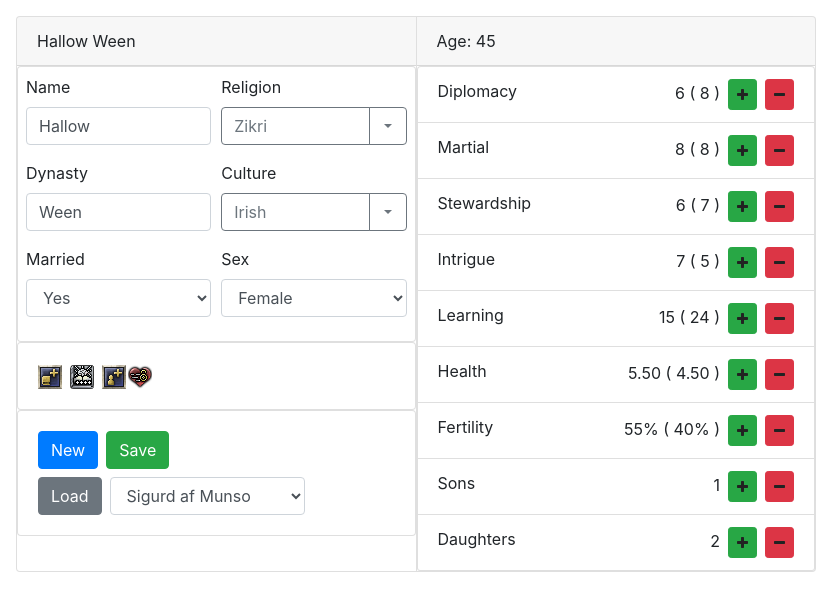
Test: displays errors for username and dynasty
Step 1. Clear the field with placeholder "Name" below "Name" → [119, 126], box [26,107,211,145]
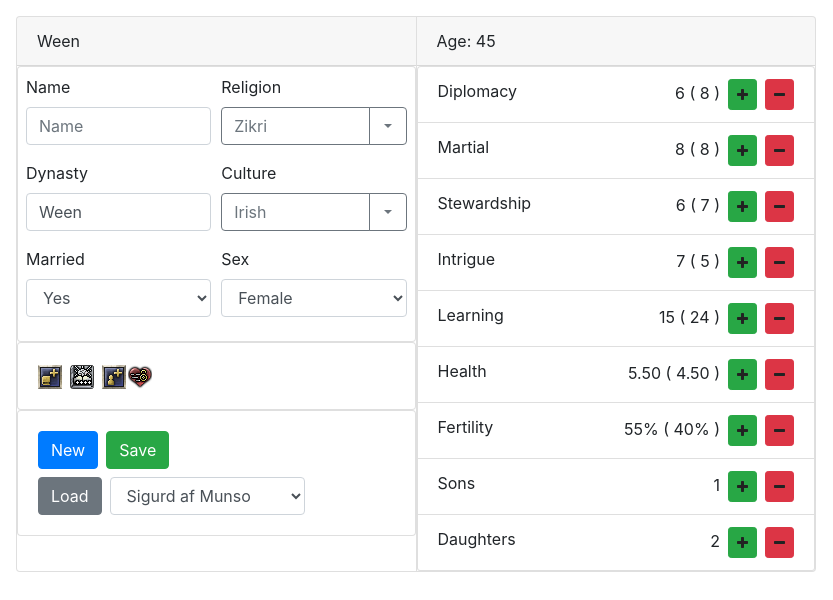
Step 2. Clear the field with placeholder "Dynasty" → [119, 212], box [26,193,211,231]
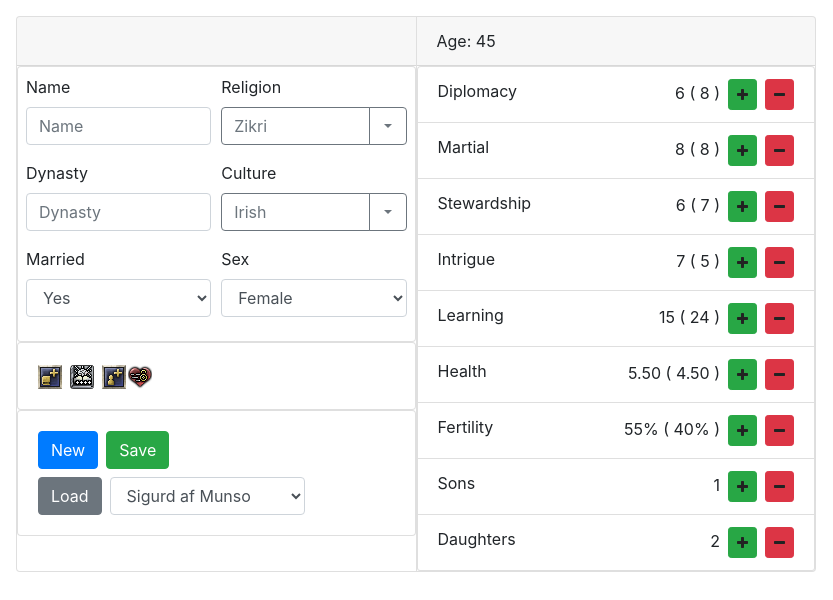
Step 3. Click the button with aria-label "Save Character Button" → [138, 450], box [106,431,169,469]
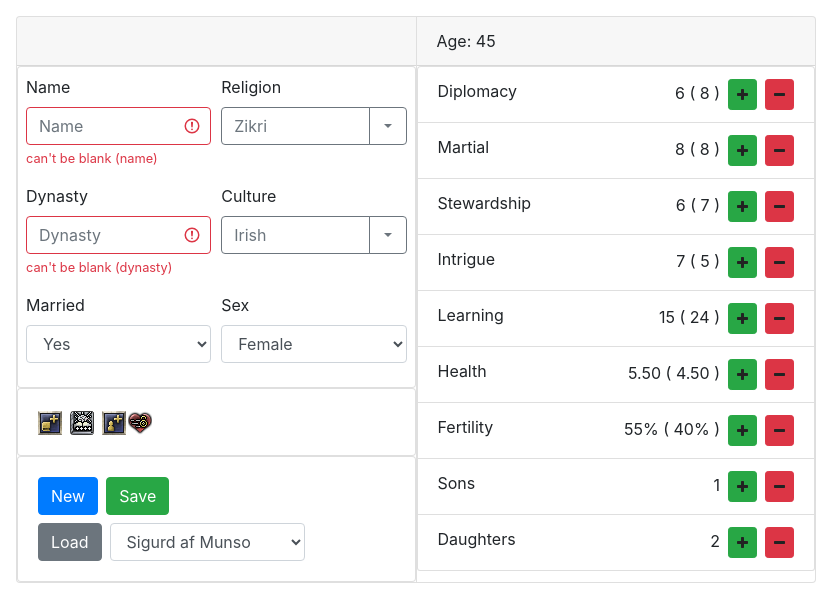
Check: the text named "Name Error" reads "can't be blank (name)", box [26,151,158,166]
Check: the text named "Dynasty Error" reads "can't be blank (dynasty)", box [26,260,172,275]
